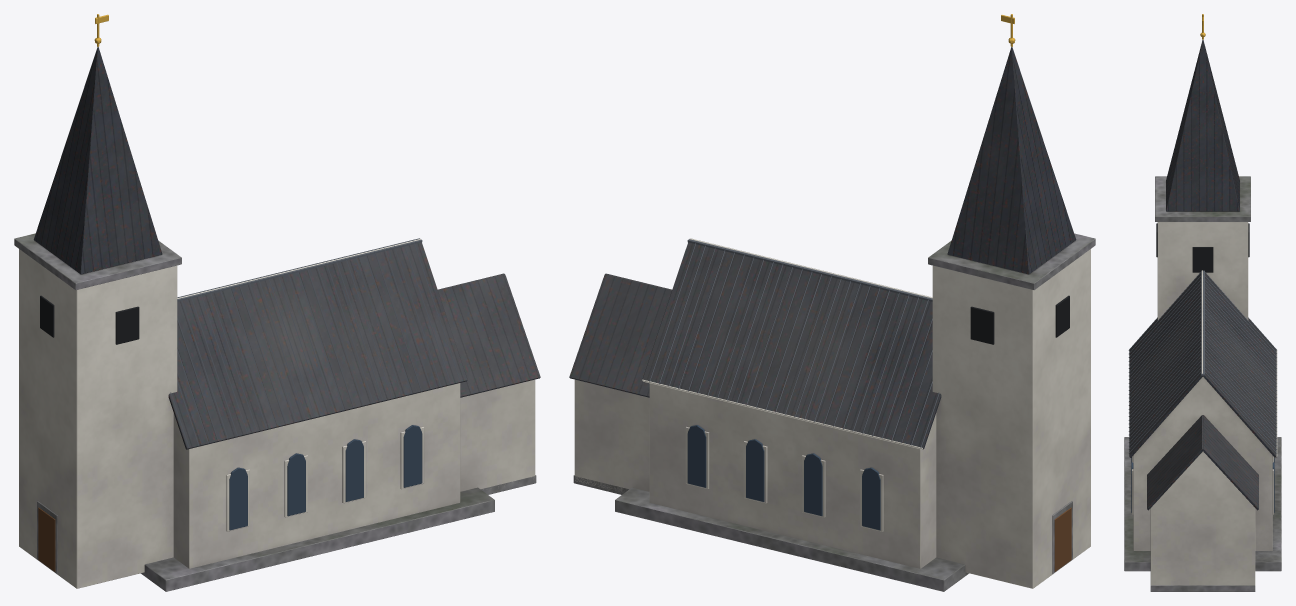
Rendered from kyrka_tex.glb.
The picture shows the model from 3 angles, left to right: view 1: azimuth 30°, elevation 25°; view 2: azimuth 150°, elevation 25°; view 3: azimuth 270°, elevation 25°; orthographic projection. The views are drawn at different scales.
Visible parts, largest first — view 1: kyrka; view 2: kyrka; view 3: kyrka.
Part boxes in pixels (x1,y1,x2,y2): kyrka: [14, 14, 540, 591]; kyrka: [569, 14, 1095, 591]; kyrka: [1124, 14, 1281, 591].
Bounding box in the file's own units: 23.75 × 26.9 × 9.
Materials: 9 (4 with a texture image).
